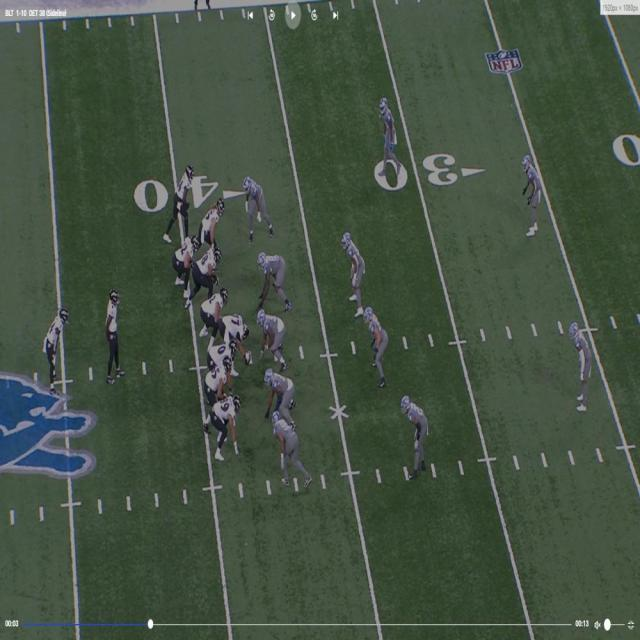center: (224, 308, 250, 363)
db: (402, 393, 432, 474), (568, 322, 592, 406), (376, 92, 397, 171), (523, 156, 544, 234)
lb: (272, 412, 308, 487), (363, 296, 390, 389), (343, 228, 367, 317), (246, 176, 270, 242)
qb: (106, 289, 120, 378)
skill: (43, 312, 66, 392), (172, 231, 200, 294), (217, 392, 242, 452), (173, 168, 198, 227), (201, 197, 225, 245)
